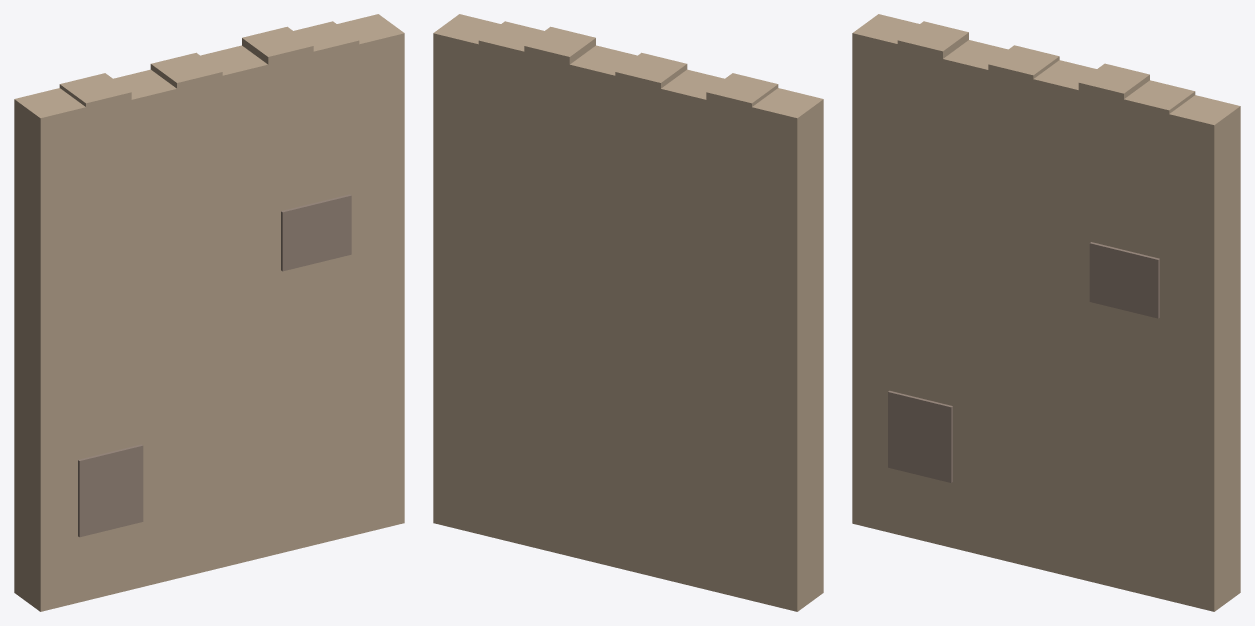
File: wall_adobe.glb
The picture shows the model from 3 angles, left to right: view 1: azimuth 30°, elevation 25°; view 2: azimuth 150°, elevation 25°; view 3: azimuth 330°, elevation 25°; orthographic projection.
Bounding box in the file's own units: 2 × 2.62 × 0.266.
